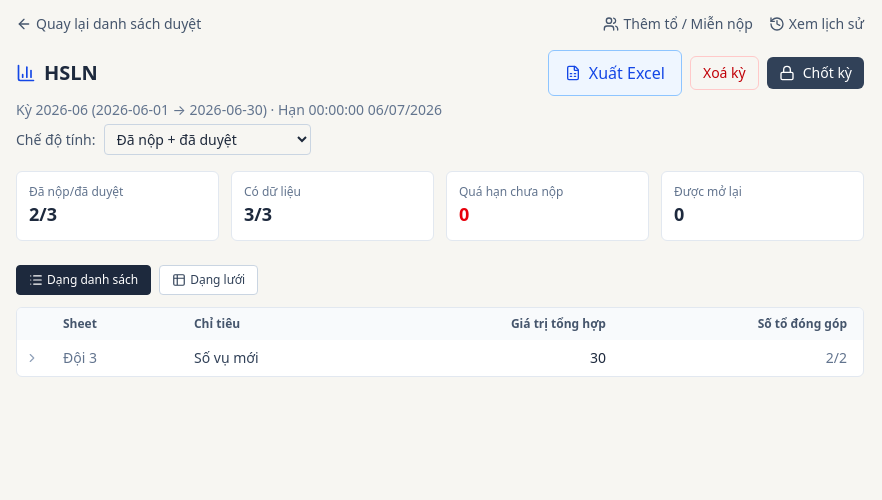
Test: ReportPeriodSummaryPage › expands the contributor drill-down on click, showing every team behind the aggregate
Click the row with test id "field-row-Đội 3!C6". click: point(80, 358)
box: [17,340,863,376]
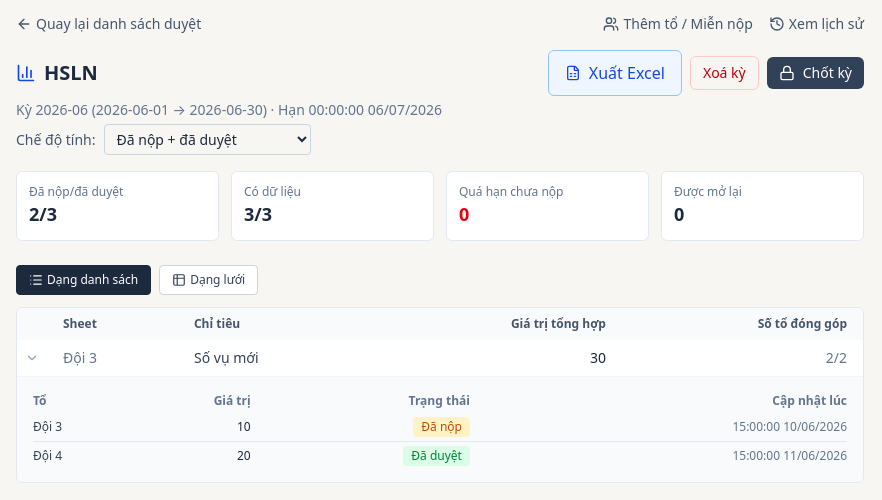
expect the cell with test id "contributors-Đội 3!C6" is shown: met, box [17,376,863,482]
expect the row with test id "contributor-Đội 3!C6-Đội 3" shows "10": met, box [237,418,251,435]
expect the row with test id "contributor-Đội 3!C6-Đội 4" shows "20": met, box [237,447,251,464]
